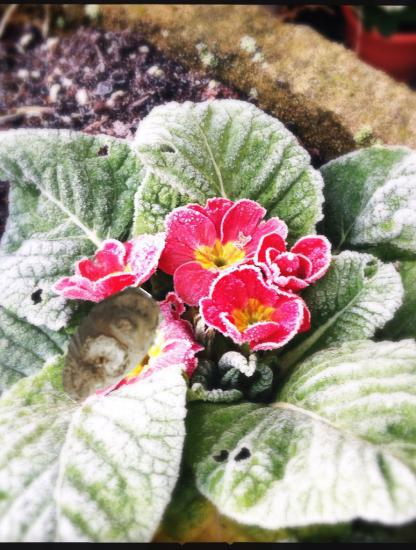Ginger: (43, 280, 176, 413)
